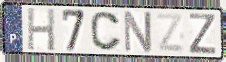7: (61, 8, 86, 53)
C: (89, 10, 123, 52)
H: (26, 6, 57, 53)
N: (123, 9, 154, 54)
Z: (155, 12, 186, 54), (188, 12, 217, 56)
